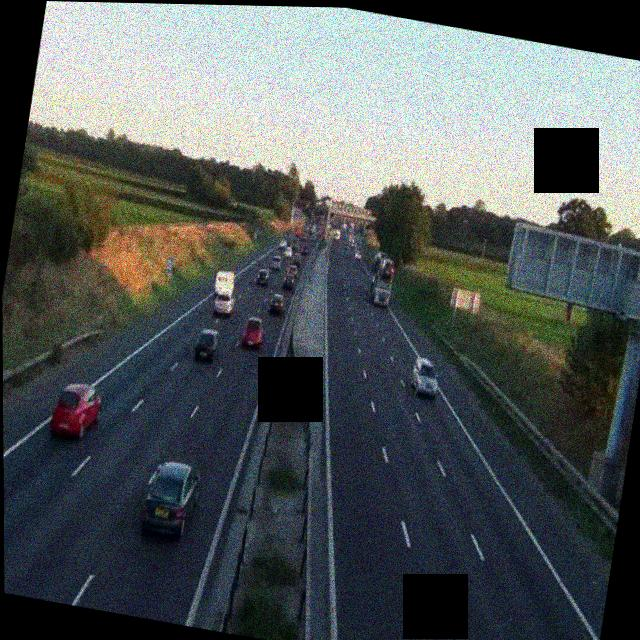bus: (369, 253, 398, 306)
car: (139, 457, 203, 541), (49, 380, 105, 443), (409, 355, 442, 400), (193, 326, 222, 363), (239, 316, 267, 350), (269, 290, 286, 315), (255, 265, 271, 285), (280, 271, 296, 291), (292, 252, 304, 268), (270, 255, 282, 270), (352, 246, 362, 262)
truck: (209, 268, 240, 320)
